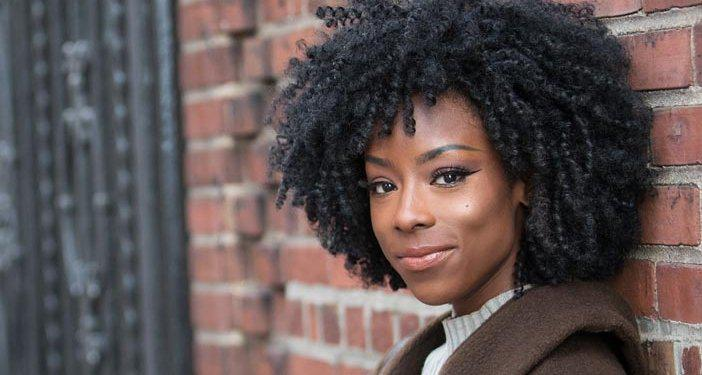Sober: (364, 109, 498, 294)
